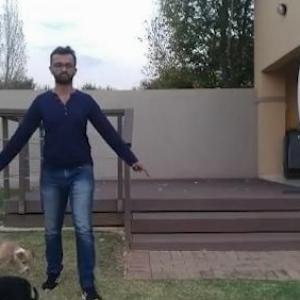land: (5, 57, 136, 283)
